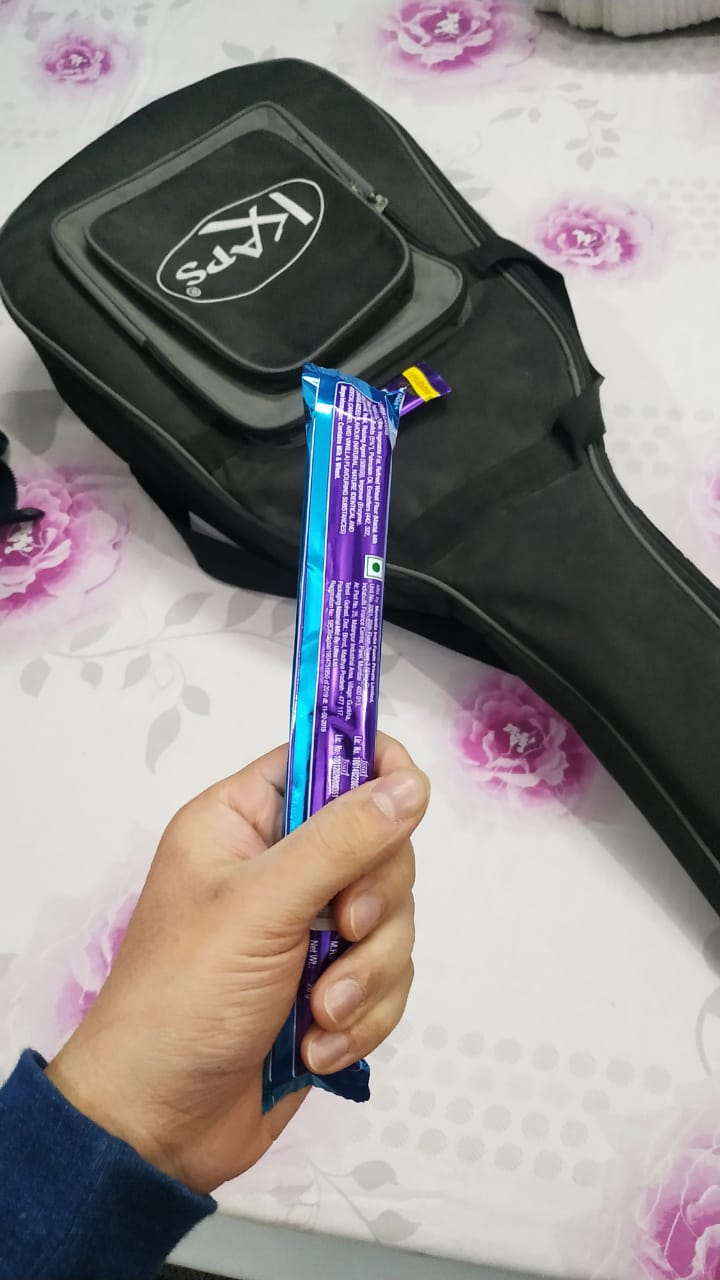perk: (268, 365, 419, 1133)
